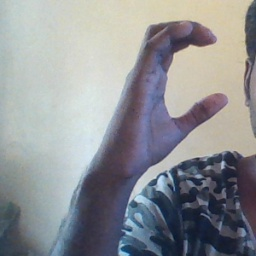C: (137, 19, 232, 139)
